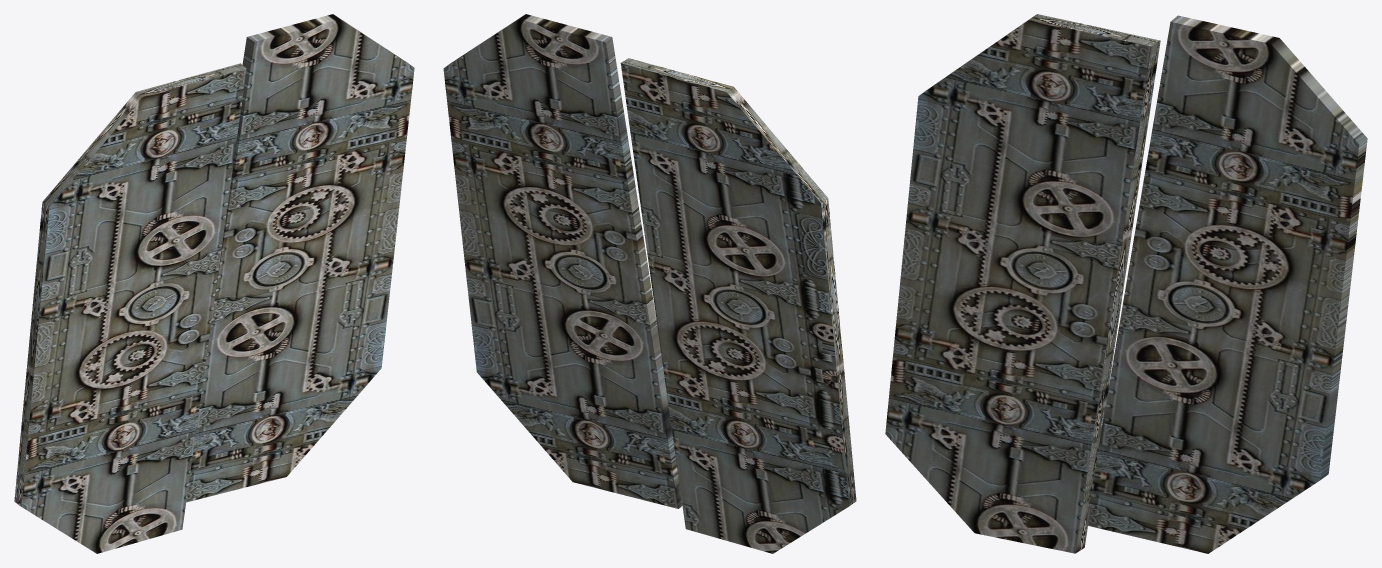
The model's file is door.FBX.
The picture shows the model from 3 angles, left to right: view 1: azimuth 30°, elevation 25°; view 2: azimuth 150°, elevation 25°; view 3: azimuth 330°, elevation 25°; orthographic projection. The views are drawn at different scales.
Parts seen in each view (by area): view 1: Cylinder035, Cylinder034; view 2: Cylinder035, Cylinder034; view 3: Cylinder035, Cylinder034.
Part boxes in pixels (x1,y1,x2,y2): Cylinder035: [14, 63, 246, 553]; Cylinder034: [186, 14, 414, 502]; Cylinder035: [620, 58, 856, 553]; Cylinder034: [443, 14, 682, 508]; Cylinder035: [885, 14, 1160, 553]; Cylinder034: [1085, 15, 1367, 553].
Bounding box in the file's own units: 197 × 223 × 9.6.
1 material, 1 textured.
